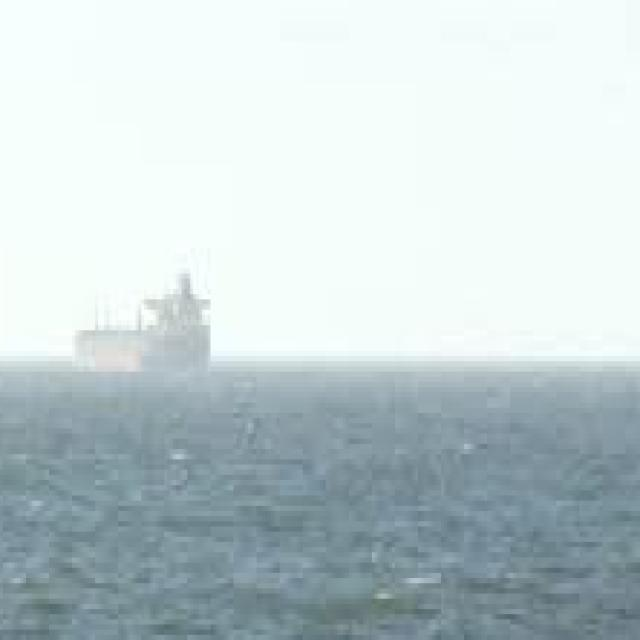cargoship: (77, 272, 210, 377)
